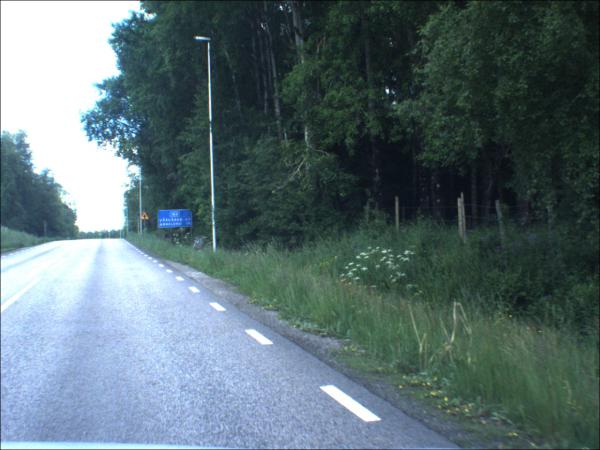WARNING: (142, 213, 152, 222)
